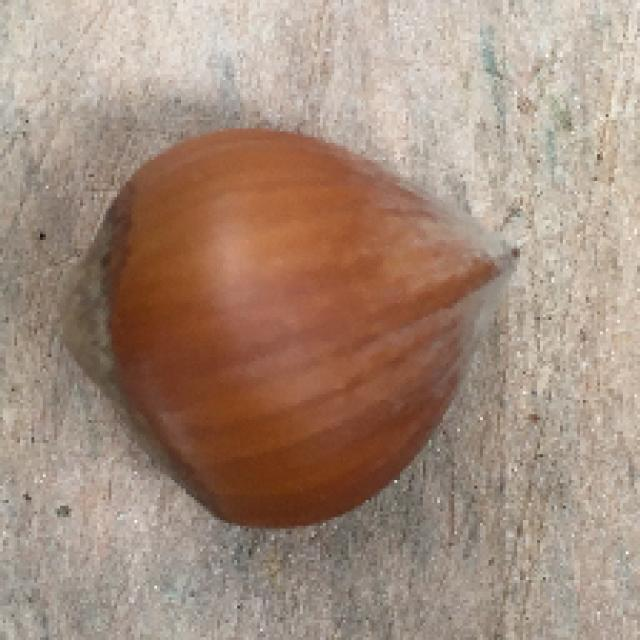qualityHazelnut: (56, 127, 526, 529)
